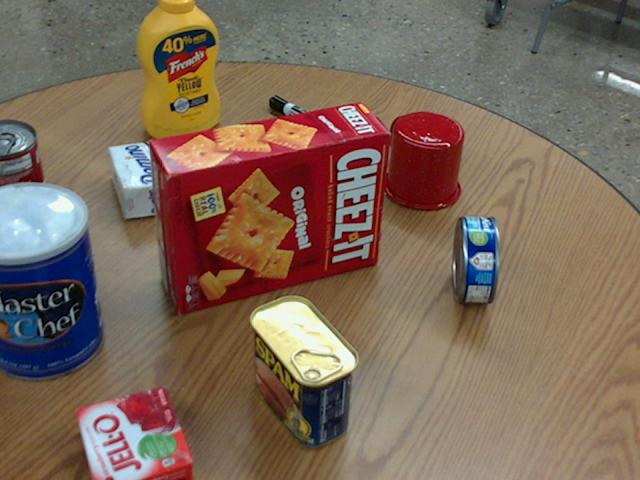cracker_box: (151, 102, 389, 311)
gelatin_box: (74, 385, 190, 479)
large_marker: (269, 94, 344, 141)
master_chef_can: (0, 182, 103, 380)
mug: (380, 111, 462, 210)
mustard_bottle: (137, 0, 219, 137)
potted_meat_can: (248, 295, 356, 446)
sugar_box: (107, 126, 279, 217)
tomato_soup_can: (0, 119, 49, 235)
tuna_fish_can: (451, 216, 498, 302)
